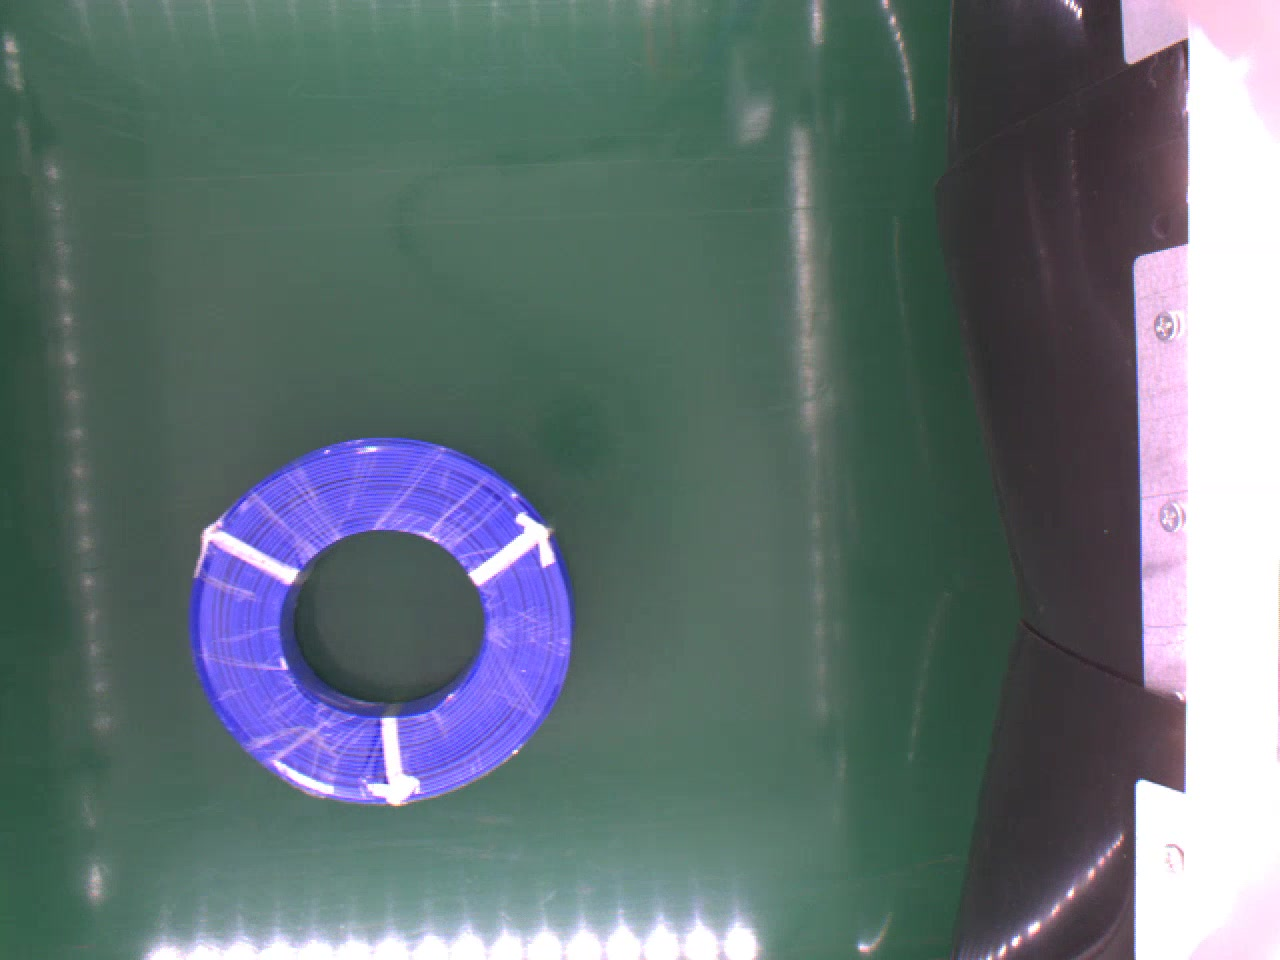blue: (188, 438, 575, 809)
